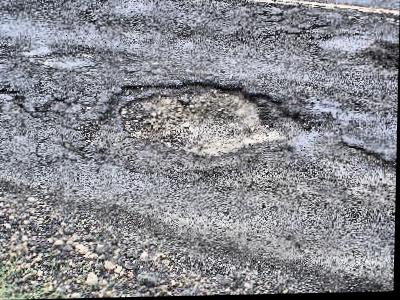pothole: (87, 76, 312, 165)
